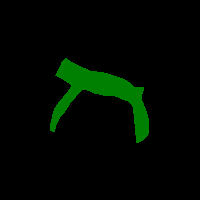mutande: (50, 57, 149, 143)
